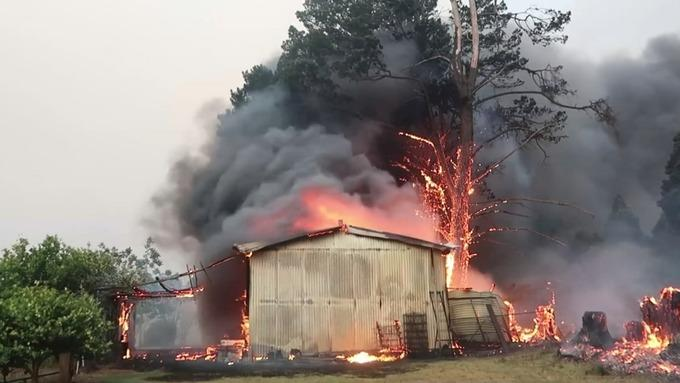fire: (320, 207, 360, 225), (349, 347, 384, 367)
smoke: (523, 148, 642, 255), (219, 140, 295, 199)
